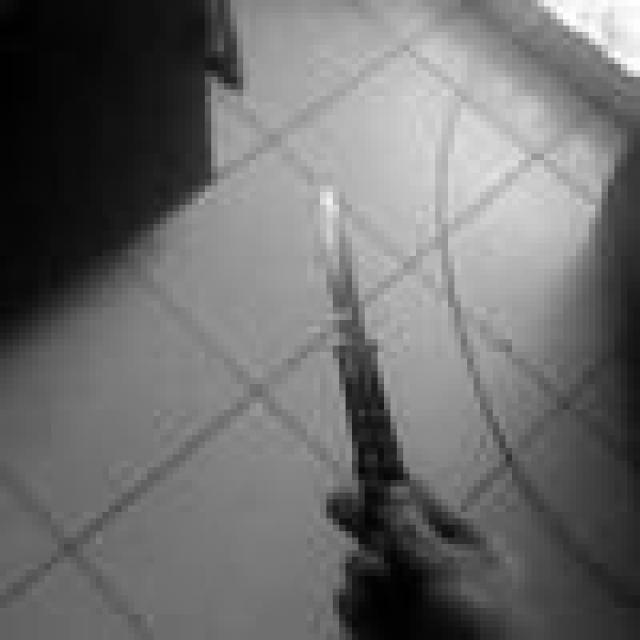knife: (320, 181, 401, 497)
